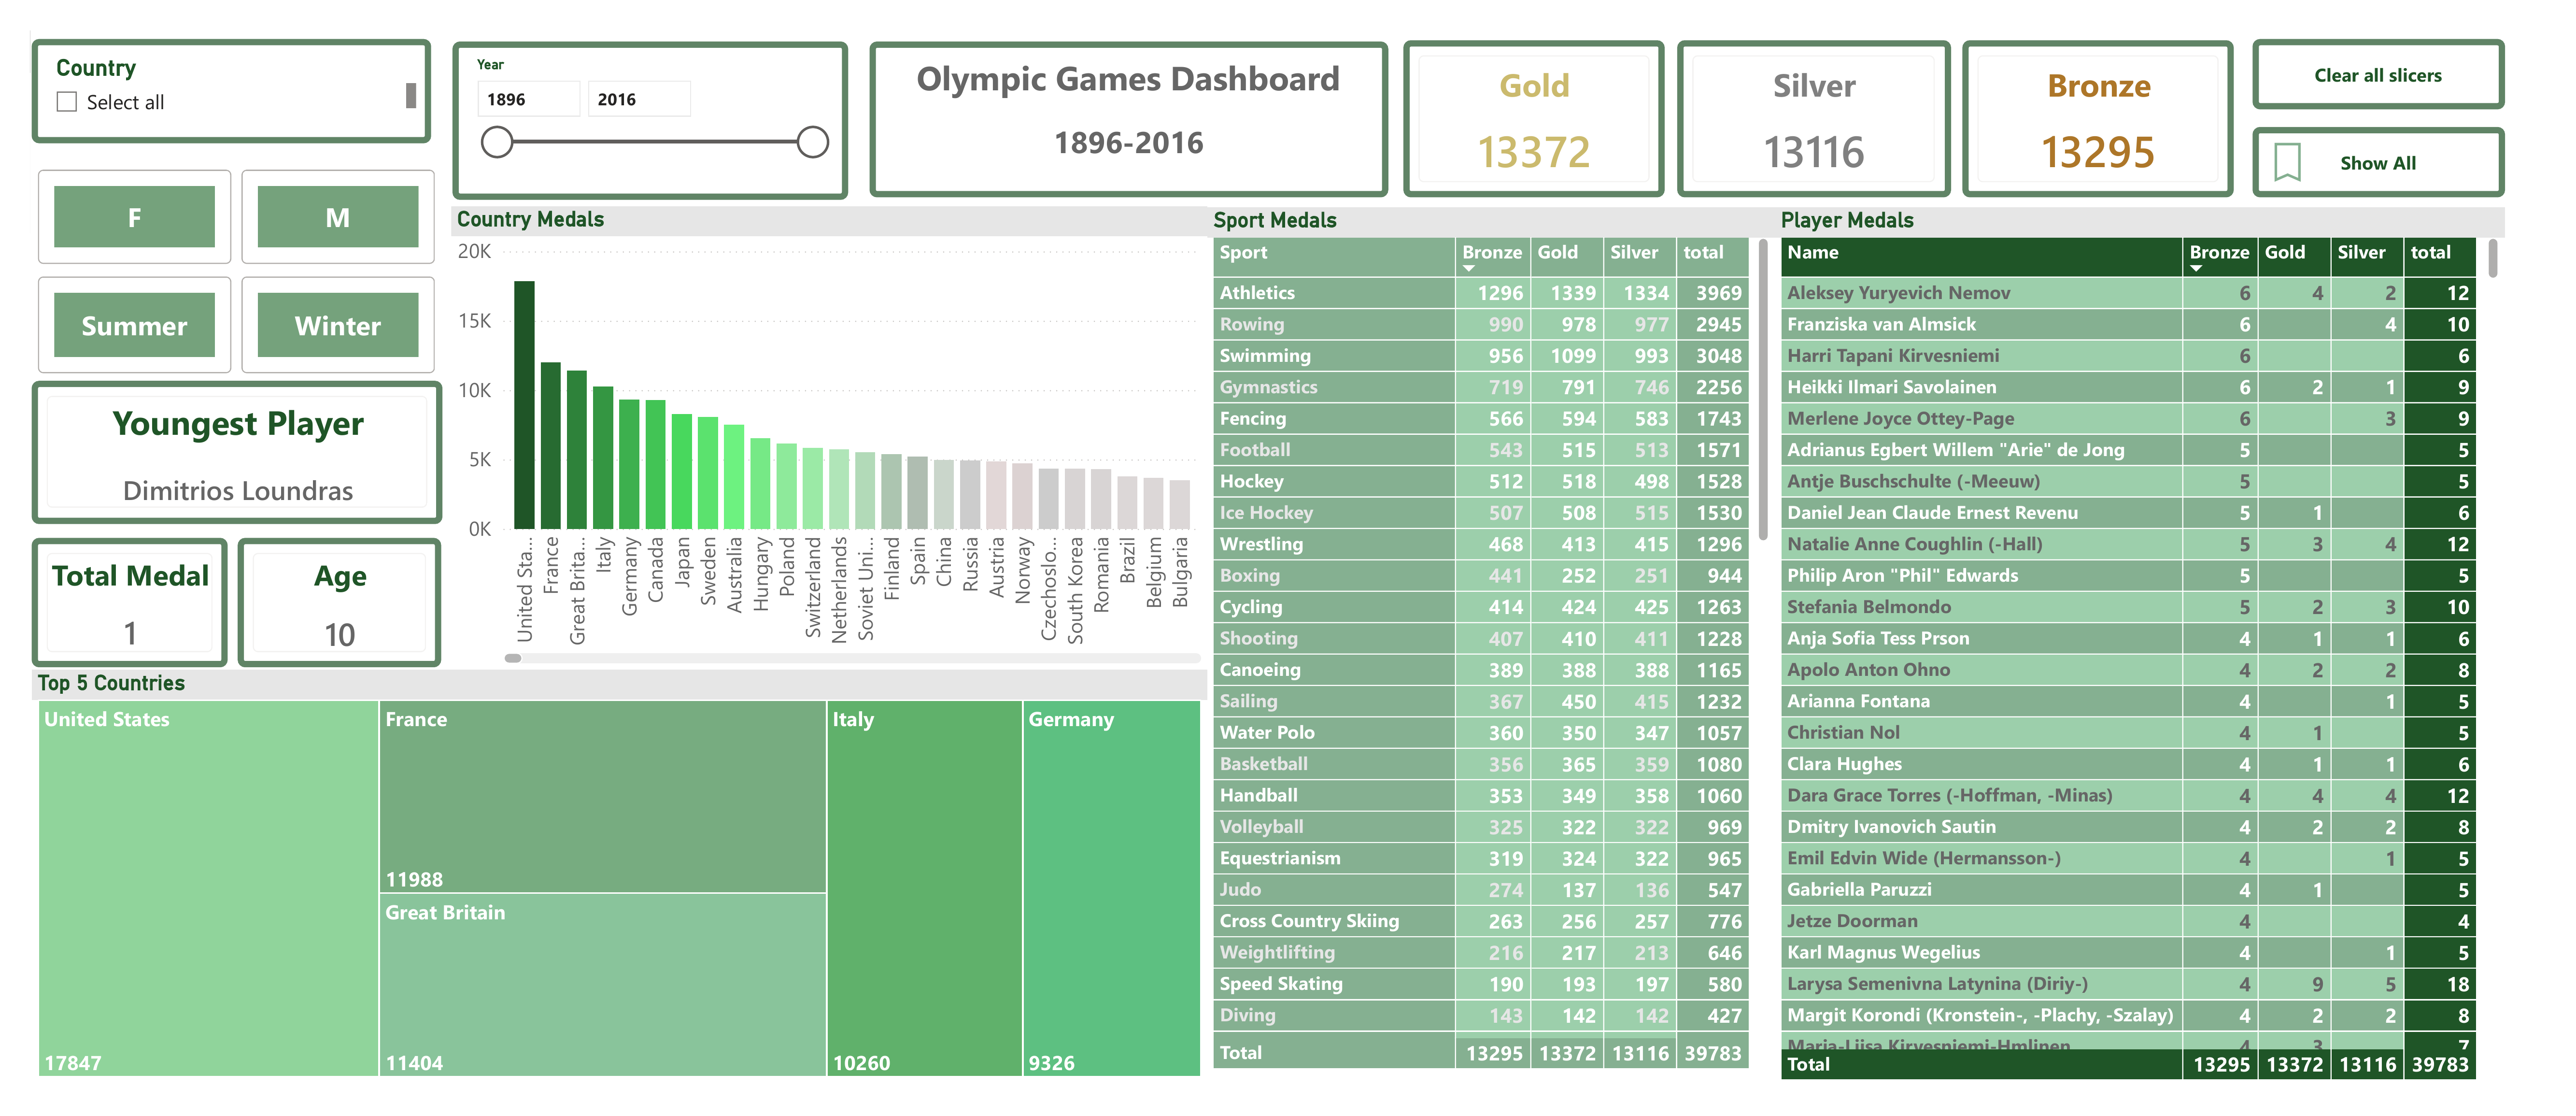

The dashboard page shown, as its layout file describes it:
{"tool":"powerbi","page":{"name":"Duplicate of Page 1","canvas":[2000,839],"ordinal":0},"visuals":[{"type":"slicer","fields":{"Values":["athlete_events.City"]},"box":[0,7.3,318,83.2],"z":0},{"type":"slicer","fields":{"Values":["athlete_events.Year"]},"box":[335.3,8.6,314.6,126.2],"z":1000},{"type":"advancedSlicerVisual","fields":{"Values":["athlete_events.Sex"]},"box":[0,105.7,326.2,85.1],"z":2000},{"type":"advancedSlicerVisual","fields":{"Values":["athlete_events.Season"]},"box":[0,190.8,326.2,87.7],"z":3000},{"type":"cardVisual","fields":{"Data":["Codes.Gold"]},"box":[1092.3,7.7,207.5,125.6],"z":4000},{"type":"cardVisual","fields":{"Data":["Codes.Silver"]},"box":[1310.1,7.7,217.8,125.6],"z":5000},{"type":"cardVisual","fields":{"Data":["Codes.Bronze"]},"box":[1536.8,7.7,216.5,125.6],"z":6000},{"type":"treemap","title":"Top 5 Countries","fields":{"Group":["athlete_events.Team"],"Values":["CountNonNull(athlete_events.Medal)"]},"box":[0,508.6,936.2,329.3],"z":7000},{"type":"pivotTable","title":"Player Medals","fields":{"Rows":["athlete_events.Name"],"Values":["Codes.Bronze","Codes.Gold","Codes.Silver","Codes.total"]},"box":[1387.9,141.4,581,698.3],"z":8000},{"type":"cardVisual","fields":{"Data":["athlete_events.YouYoungPlayer"]},"box":[0,279,327.2,113.9],"z":9000},{"type":"cardVisual","fields":{"Data":["athlete_events.TotalMedalYoungest"]},"box":[0,403.6,156,103.2],"z":10000},{"type":"cardVisual","fields":{"Data":["athlete_events.Age"]},"box":[163.8,403.6,162.5,103.2],"z":11000},{"type":"columnChart","title":"Country Medals","fields":{"Category":["athlete_events.Team"],"Y":["CountNonNull(athlete_events.Medal)"]},"box":[334.5,139.7,601.7,369],"z":12000},{"type":"pivotTable","title":"Sport Medals","fields":{"Rows":["athlete_events.Sport"],"Values":["Codes.Bronze","Codes.Gold","Codes.Silver","Codes.total"]},"box":[936.2,141.4,451.7,689.7],"z":13000},{"type":"actionButton","box":[1767.9,7.3,201.6,56],"z":14000},{"type":"actionButton","box":[1767.9,77.4,201.6,55.5],"z":15000},{"type":"textbox","box":[667.1,8.6,413.1,124],"z":16000}]}

Visuals, with their boxes in screenshot pixels (x1, y1, x2, y2):
slicer - athlete_events.City: BBox(54, 36, 443, 138)
slicer - athlete_events.Year: BBox(465, 37, 850, 192)
advancedSlicerVisual - athlete_events.Sex: BBox(54, 157, 453, 261)
advancedSlicerVisual - athlete_events.Season: BBox(54, 261, 453, 368)
cardVisual - Codes.Gold: BBox(1392, 36, 1646, 190)
cardVisual - Codes.Silver: BBox(1659, 36, 1925, 190)
cardVisual - Codes.Bronze: BBox(1937, 36, 2202, 190)
"Top 5 Countries" treemap: BBox(54, 650, 1201, 1054)
"Player Medals" pivotTable: BBox(1754, 200, 2466, 1056)
cardVisual - athlete_events.YouYoungPlayer: BBox(54, 369, 454, 508)
cardVisual - athlete_events.TotalMedalYoungest: BBox(54, 521, 245, 648)
cardVisual - athlete_events.Age: BBox(255, 521, 453, 648)
"Country Medals" columnChart: BBox(464, 198, 1201, 650)
"Sport Medals" pivotTable: BBox(1201, 200, 1754, 1045)
actionButton: BBox(2220, 36, 2467, 104)
actionButton: BBox(2220, 122, 2467, 190)
textbox: BBox(871, 37, 1377, 189)
